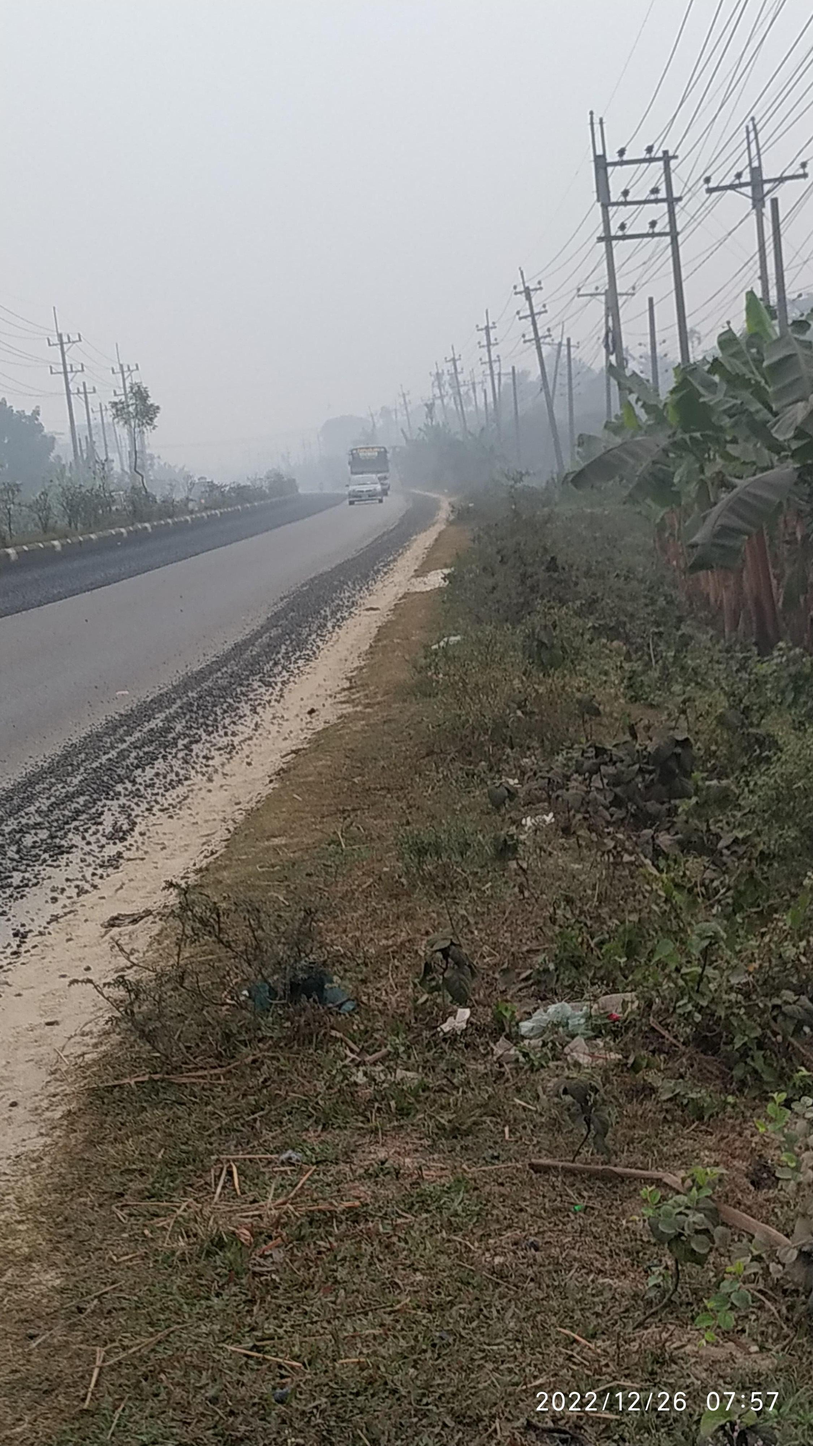Bus: (343, 434, 411, 510)
Car: (332, 462, 390, 515)
